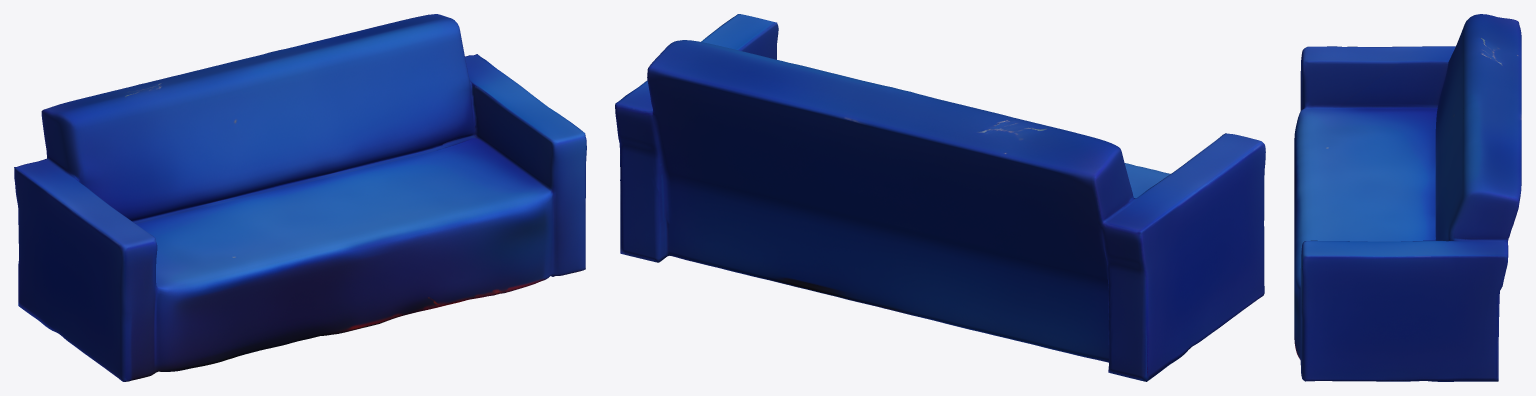
The model's file is selected.glb.
The picture shows the model from 3 angles, left to right: view 1: azimuth 30°, elevation 25°; view 2: azimuth 150°, elevation 25°; view 3: azimuth 270°, elevation 25°; orthographic projection. The views are drawn at different scales.
Parts seen in each view (by area): view 1: model; view 2: model; view 3: model.
Part boxes in pixels (bbox=[...]): model: bbox=[14, 14, 586, 381]; model: bbox=[615, 14, 1265, 381]; model: bbox=[1294, 14, 1521, 381].
Bounding box in the file's own units: 1.9 × 0.7527 × 0.8696.
Materials: 1 (1 with a texture image).
